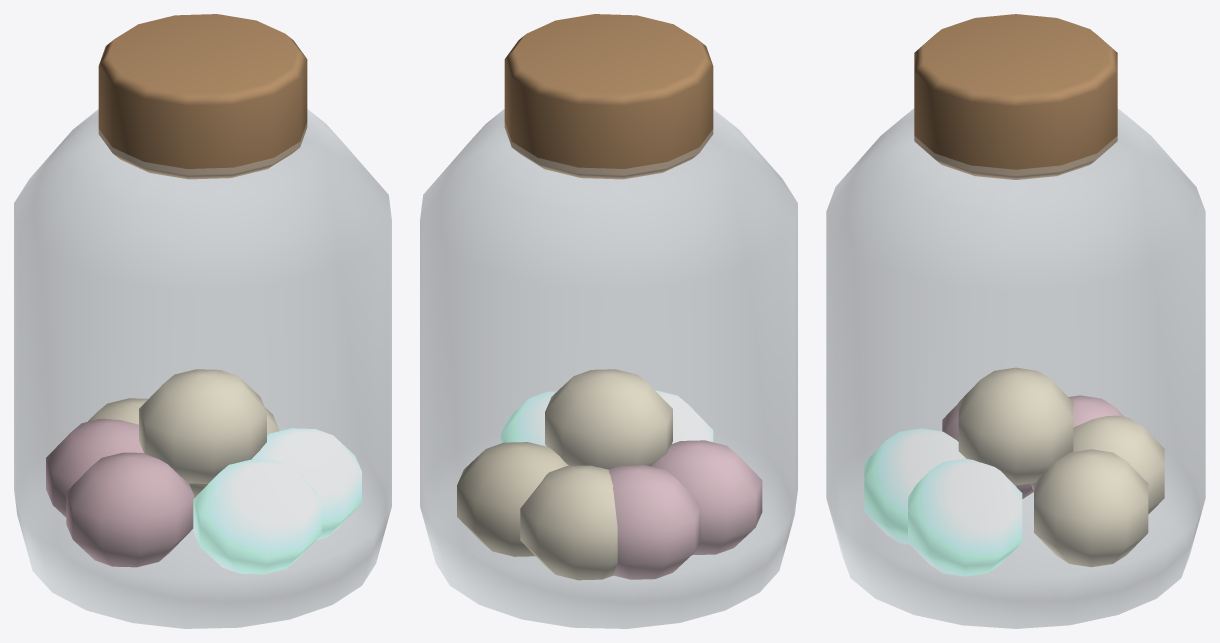
Rendered from Moonstone_Jar.fbx.
3 renders of one model, left to right at view 1: azimuth 30°, elevation 25°; view 2: azimuth 150°, elevation 25°; view 3: azimuth 270°, elevation 25°, orthographic.
Visible parts, largest first — view 1: Moonstone_Jar_Mesh; view 2: Moonstone_Jar_Mesh; view 3: Moonstone_Jar_Mesh.
Part boxes in pixels (left/top/right/bottom): Moonstone_Jar_Mesh: left=14, top=14, right=391, bottom=628; Moonstone_Jar_Mesh: left=420, top=14, right=797, bottom=628; Moonstone_Jar_Mesh: left=826, top=14, right=1205, bottom=628.
Bounding box in the file's own units: 0.12 × 0.175 × 0.12.
